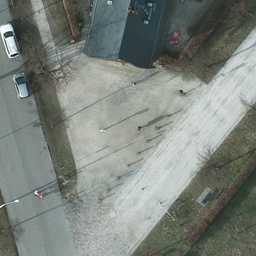car: (1, 22, 20, 58), (12, 72, 31, 98)
